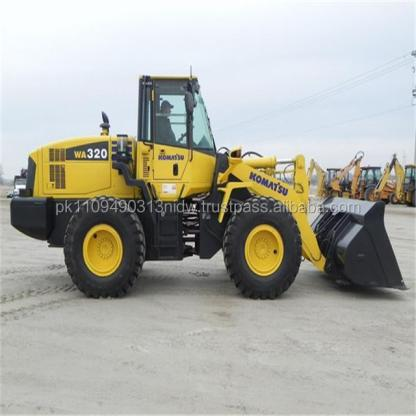bull_dozer/loader/grader: (11, 59, 413, 315)
